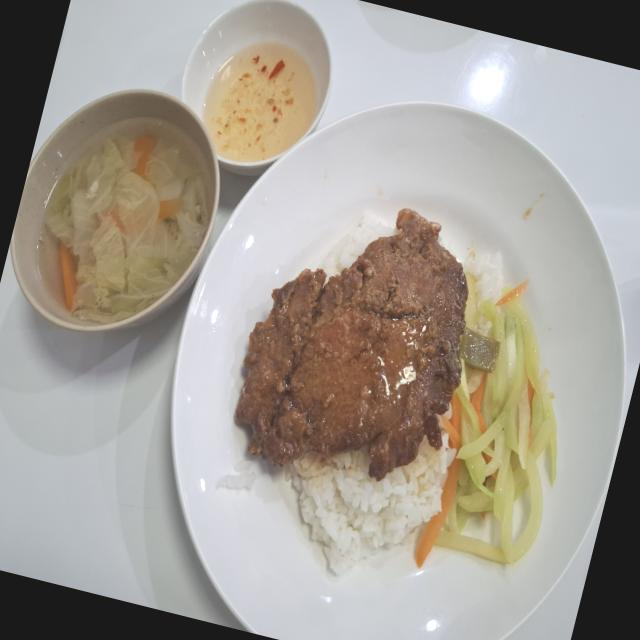canh cai: (45, 135, 207, 323)
com: (284, 439, 452, 574), (319, 214, 394, 276), (462, 246, 505, 331)
nuoc mam: (203, 47, 315, 162)
rau: (426, 280, 557, 563)
suon mieng: (235, 208, 467, 479)
